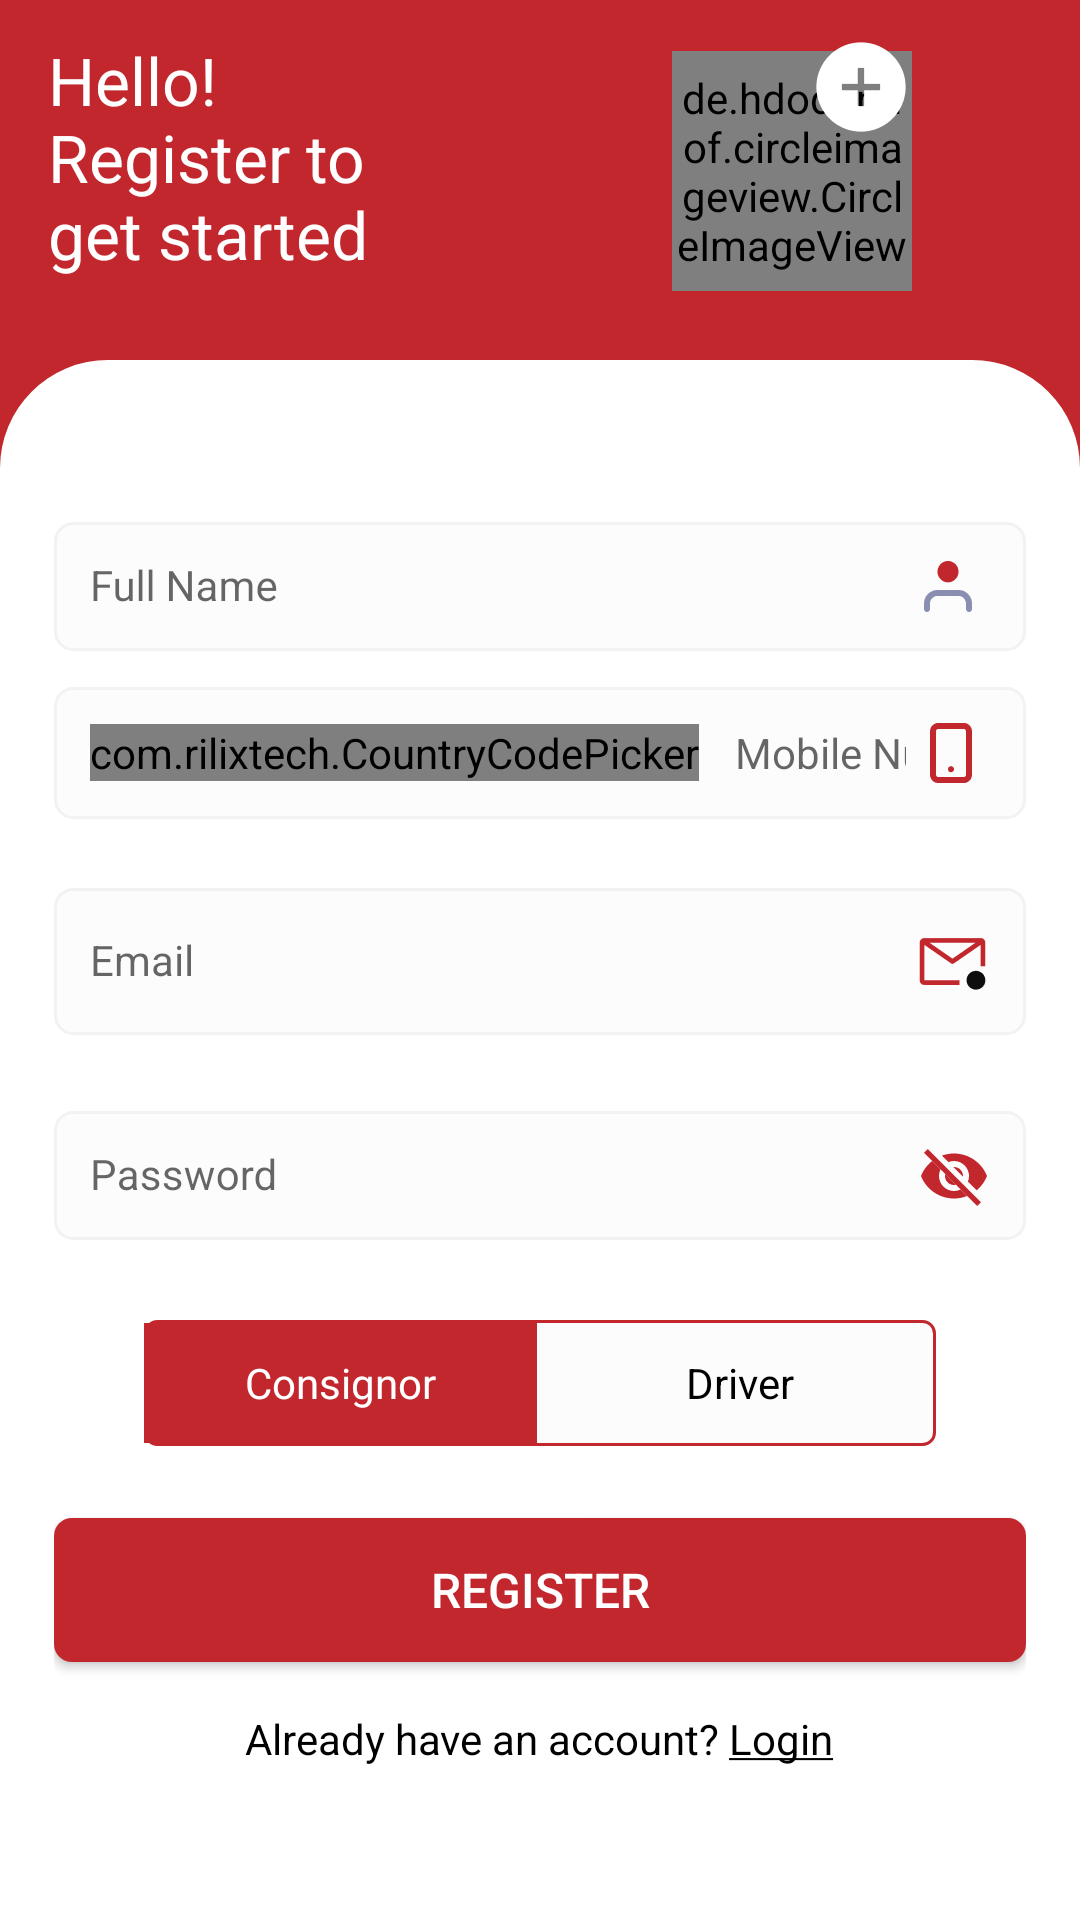

Screen size 1080×1920. Icon name, then its center in pixels as (x=x, y=y):
circle add: (x=861, y=87)
